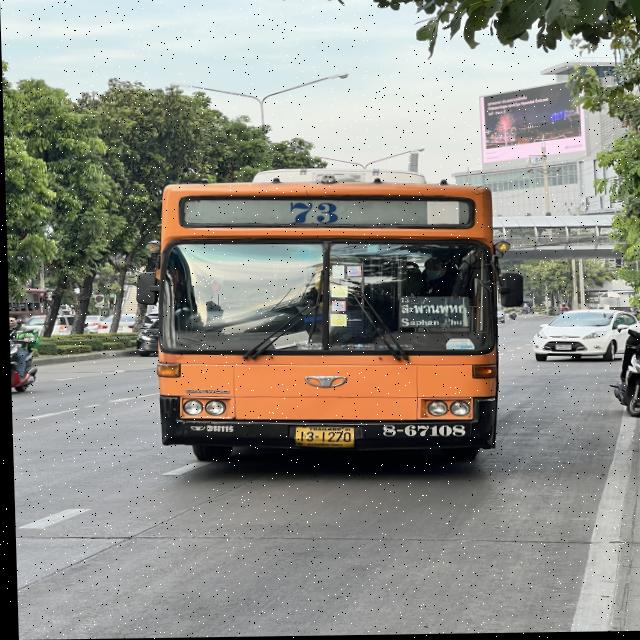BMTA-bus: (132, 173, 501, 468)
Bus-Line-Number: (284, 198, 346, 228)
Destination-Sign-Normal: (394, 298, 466, 329)
